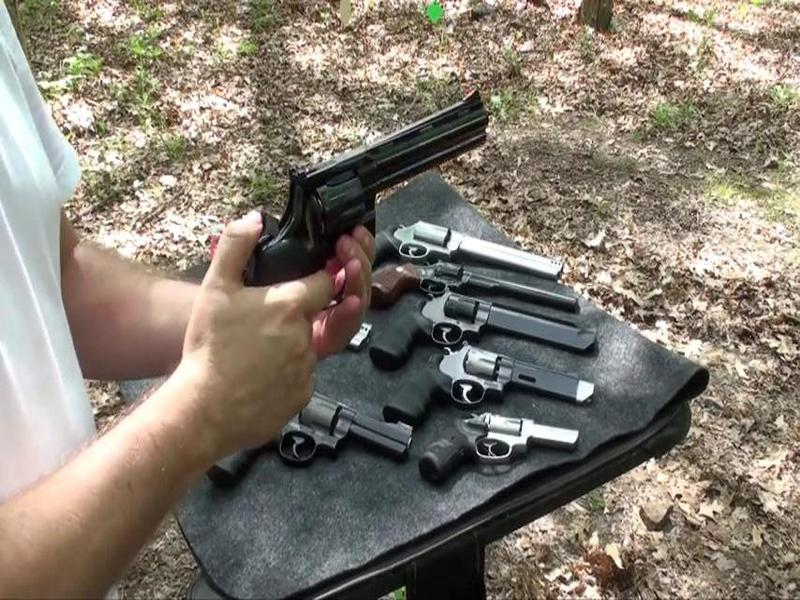Revolver: (246, 89, 515, 324)
